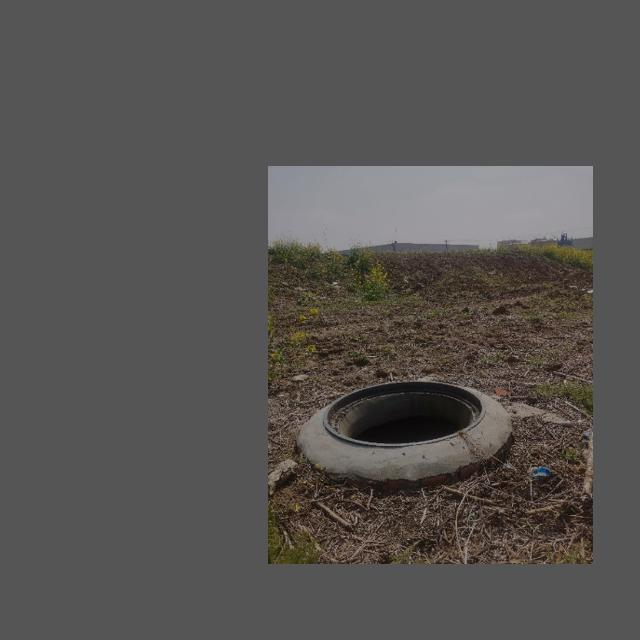lose: (323, 379, 486, 447)
